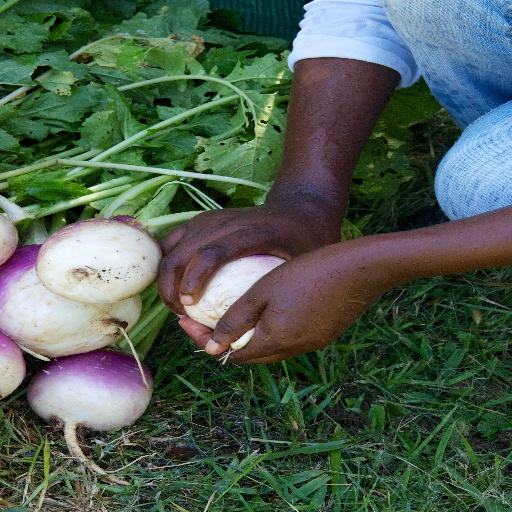hand: (153, 203, 341, 316), (180, 256, 376, 364)
